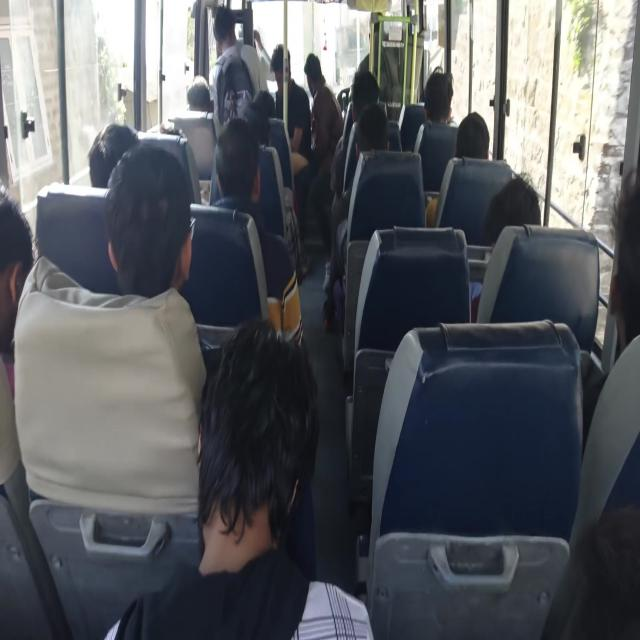person: (191, 344, 291, 554), (111, 145, 195, 302), (0, 197, 38, 391), (601, 183, 640, 325), (483, 181, 551, 253), (212, 130, 266, 199), (84, 133, 130, 213), (348, 108, 406, 166), (429, 69, 462, 129), (455, 111, 490, 163), (186, 66, 212, 120), (269, 47, 298, 95), (350, 68, 381, 111), (306, 45, 334, 91), (242, 102, 274, 141), (212, 10, 240, 53), (255, 79, 279, 129)
